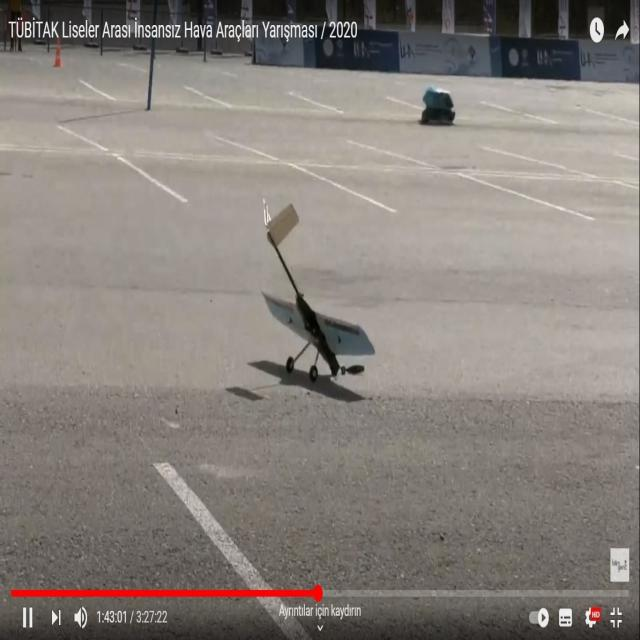iha: (288, 190, 347, 383)
